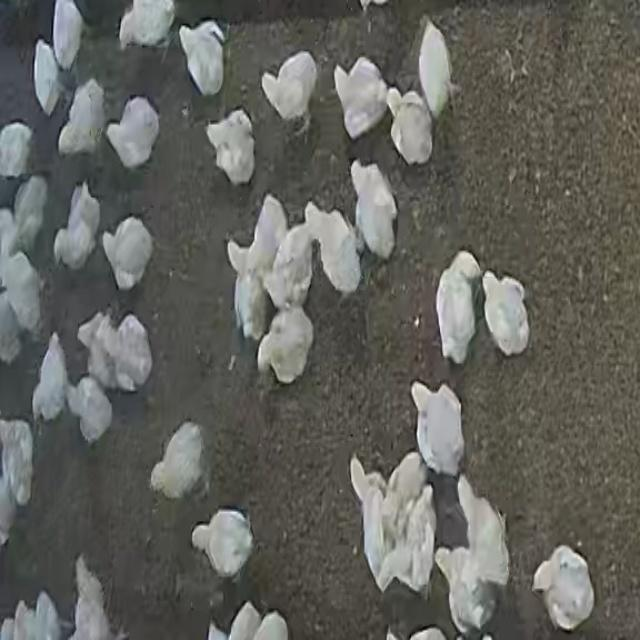chicken: (302, 201, 362, 297), (458, 475, 510, 584), (531, 544, 595, 632), (434, 249, 482, 364), (410, 378, 464, 479), (264, 212, 317, 314), (226, 193, 288, 276), (350, 162, 398, 263), (190, 506, 253, 582), (333, 57, 389, 142), (257, 306, 314, 388), (260, 51, 318, 131), (149, 421, 207, 501), (438, 546, 493, 625), (53, 182, 101, 272), (481, 270, 529, 358), (100, 214, 154, 292), (105, 96, 159, 172), (380, 89, 434, 163), (204, 109, 254, 188), (178, 21, 226, 97), (58, 81, 106, 157), (2, 249, 42, 340), (111, 310, 152, 393), (65, 374, 113, 444), (416, 25, 456, 108), (32, 333, 68, 425), (0, 419, 34, 512), (75, 309, 116, 385), (117, 1, 176, 51), (12, 175, 49, 252), (53, 0, 86, 70), (33, 39, 62, 113), (230, 277, 264, 334)
